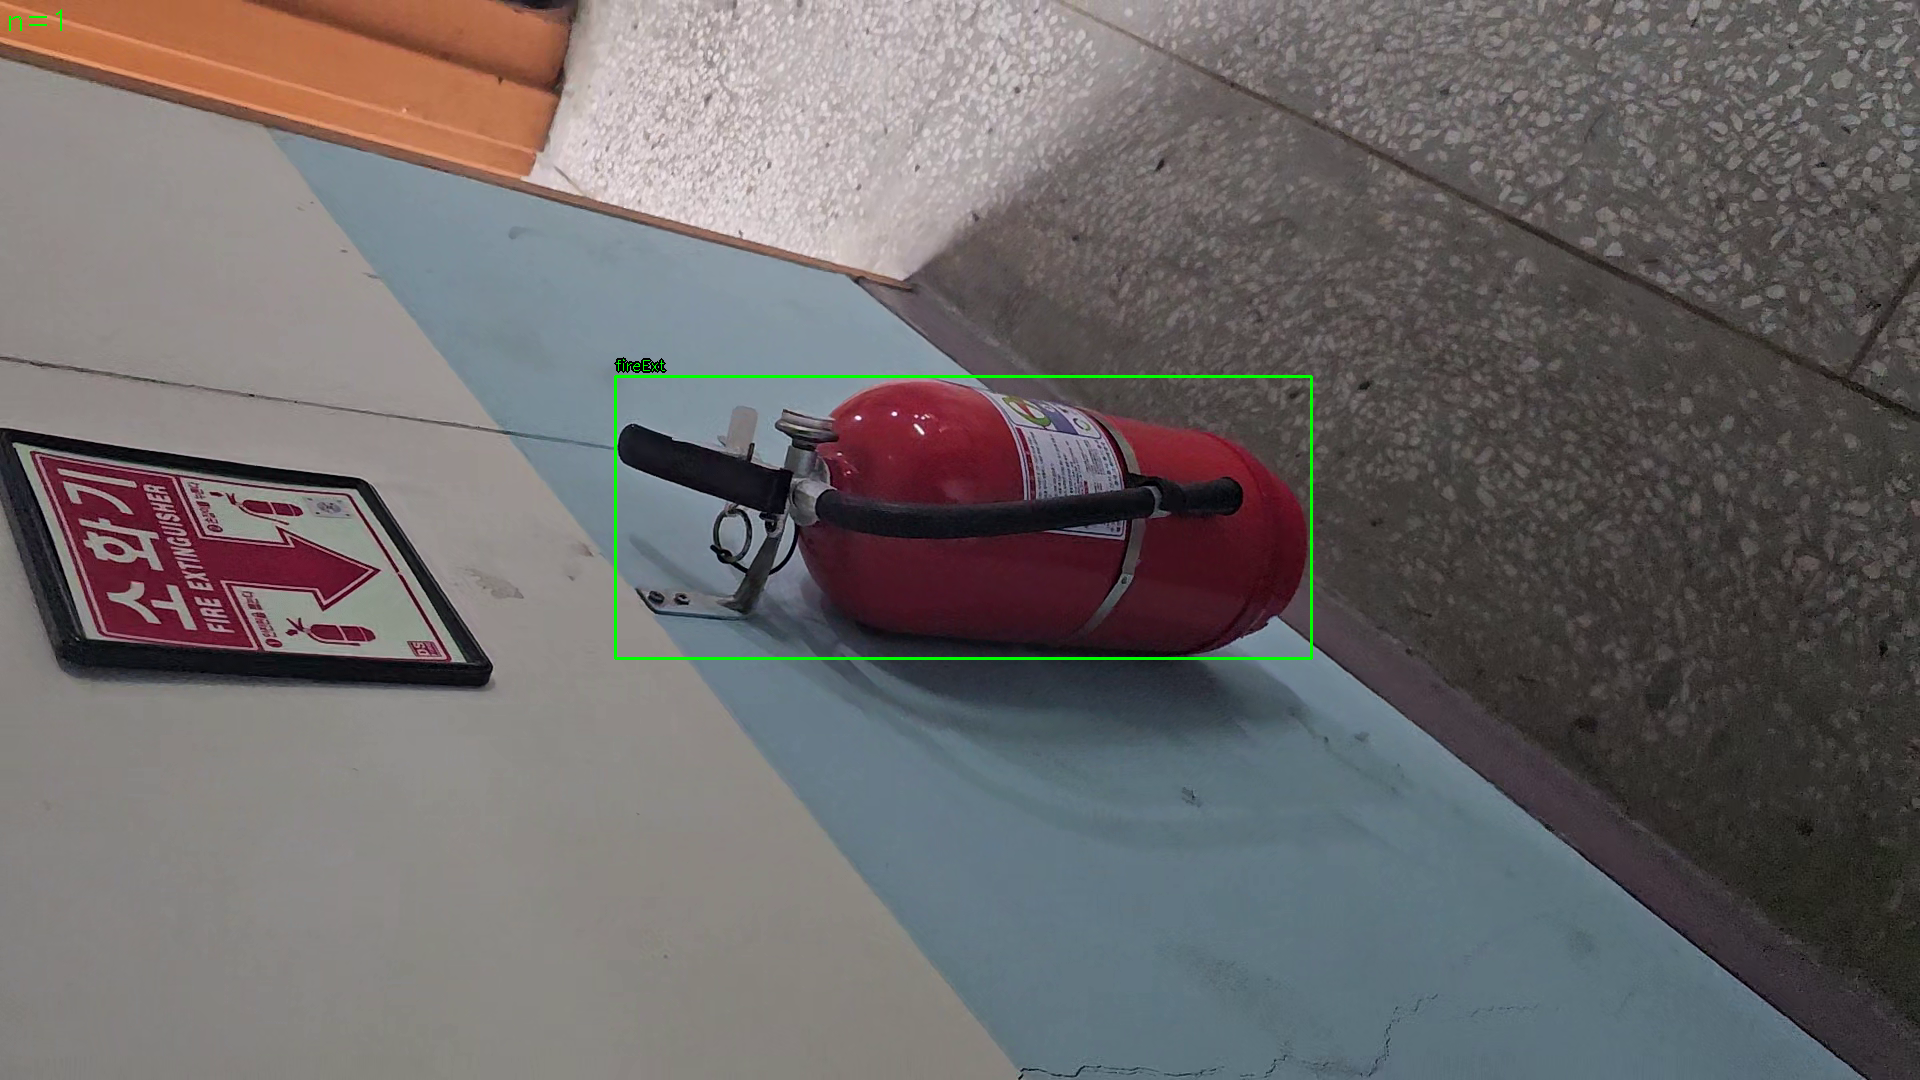lane: (615, 376, 1312, 659)
